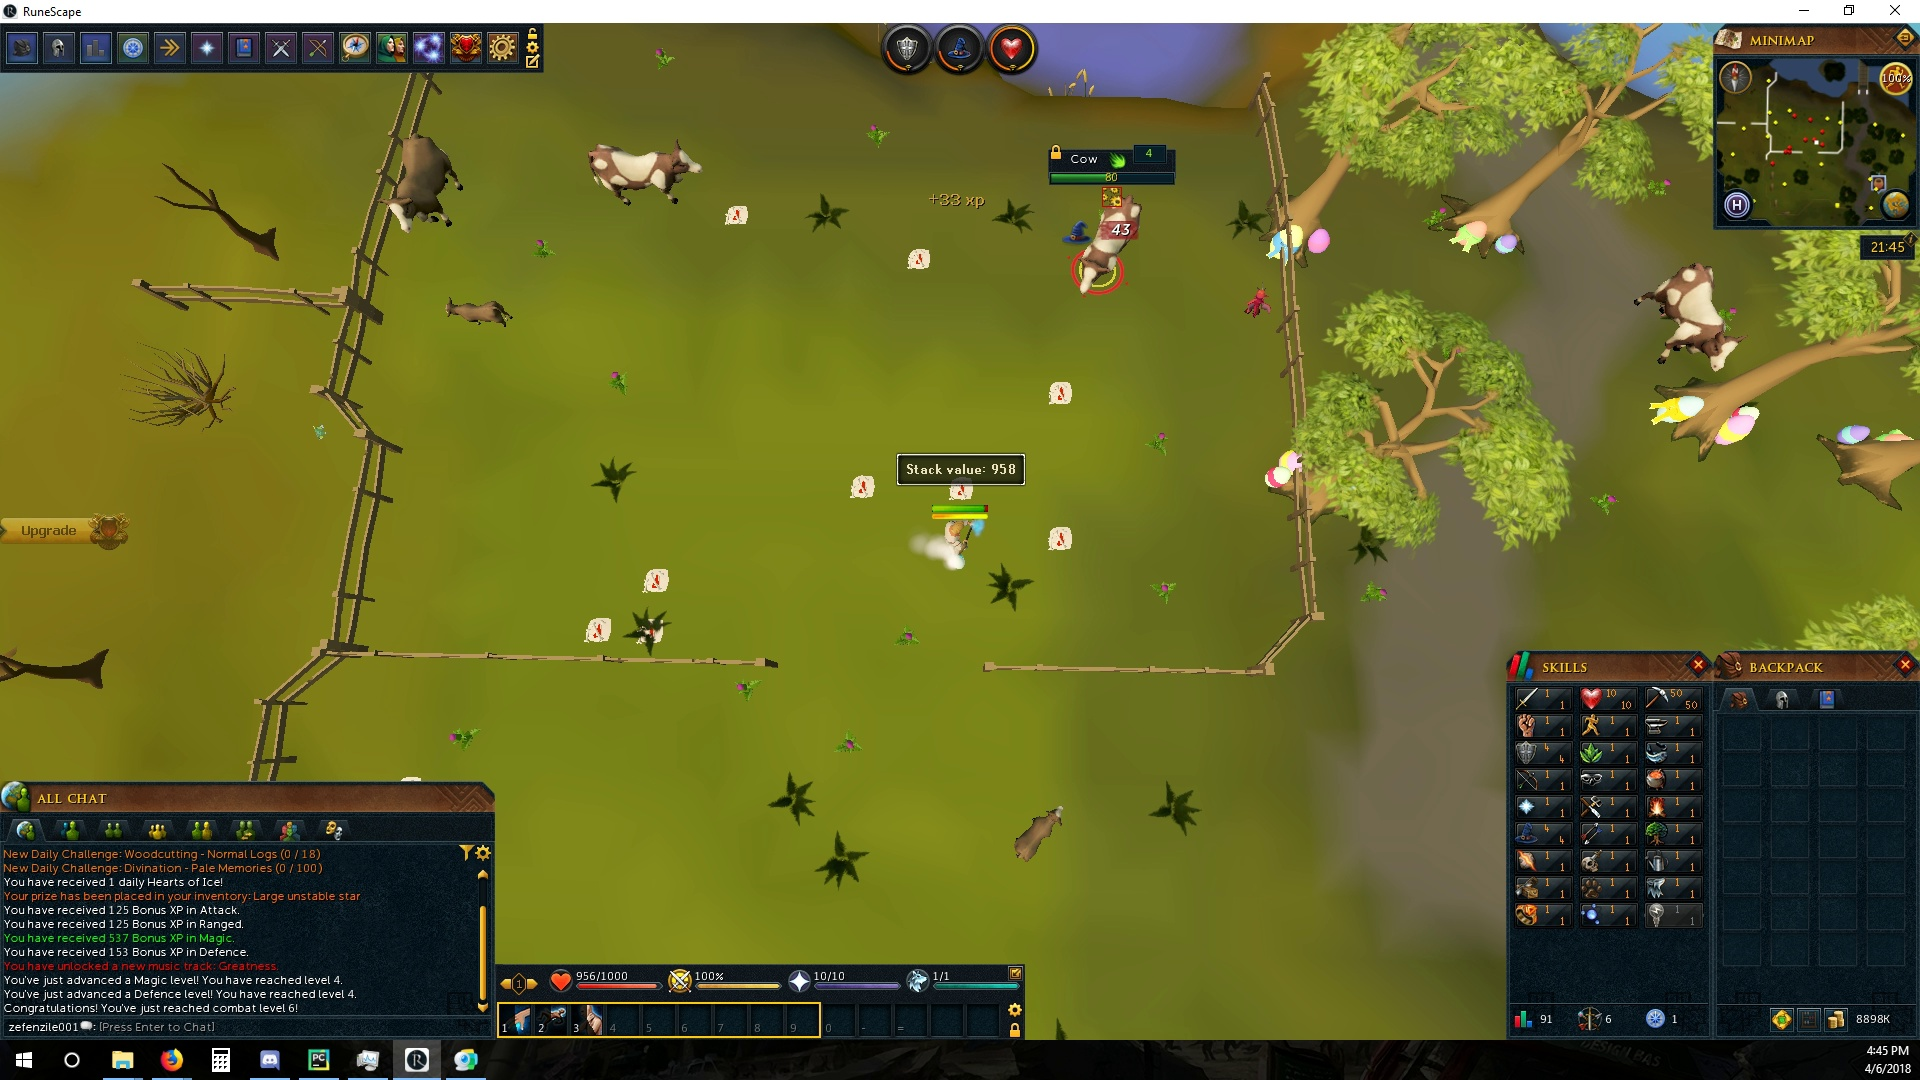calf: (1011, 800, 1068, 861), (440, 297, 517, 327)
cow: (1629, 258, 1749, 378), (582, 136, 705, 210), (382, 132, 464, 233), (1073, 194, 1145, 297)
cow_drop: (570, 613, 615, 647), (634, 560, 671, 595), (1038, 524, 1073, 553), (843, 471, 876, 501), (949, 475, 978, 505), (905, 244, 934, 274), (1043, 378, 1073, 406), (721, 204, 754, 223)
